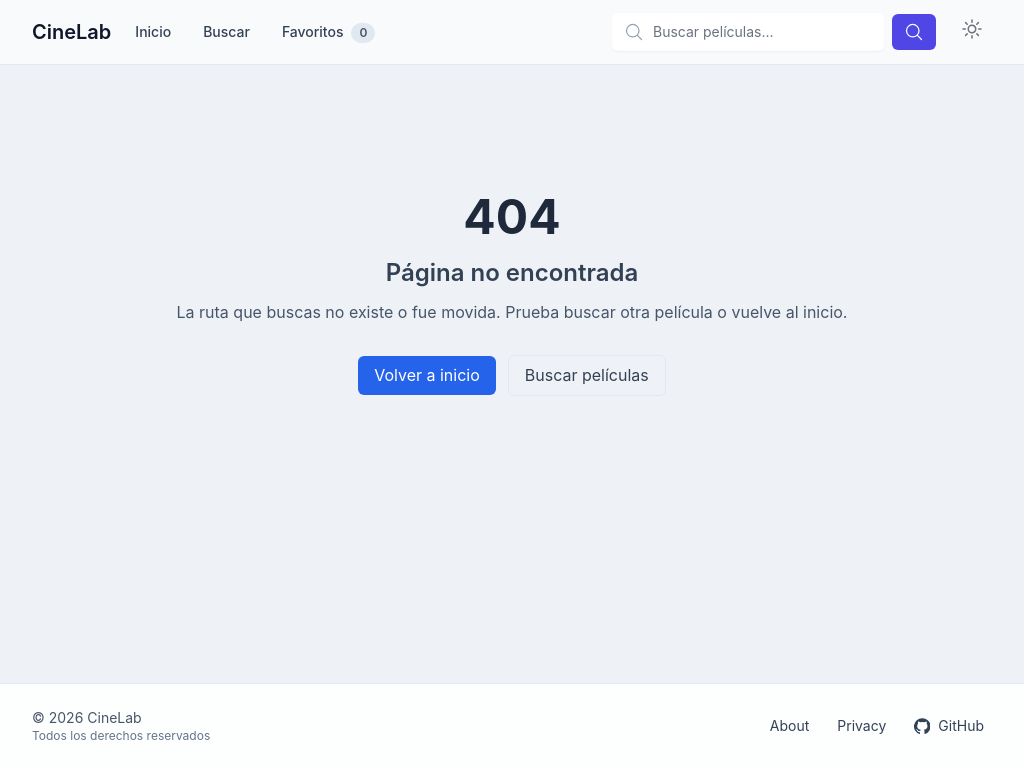
it: navega a Home al clickear el logo sin recargar la página
Expected: the heading "404" is shown, x1=463 y1=187 x2=561 y2=246
Click the link with aria-label "cinelab — inicio" at (72, 32), box x1=32 y1=18 x2=111 y2=46
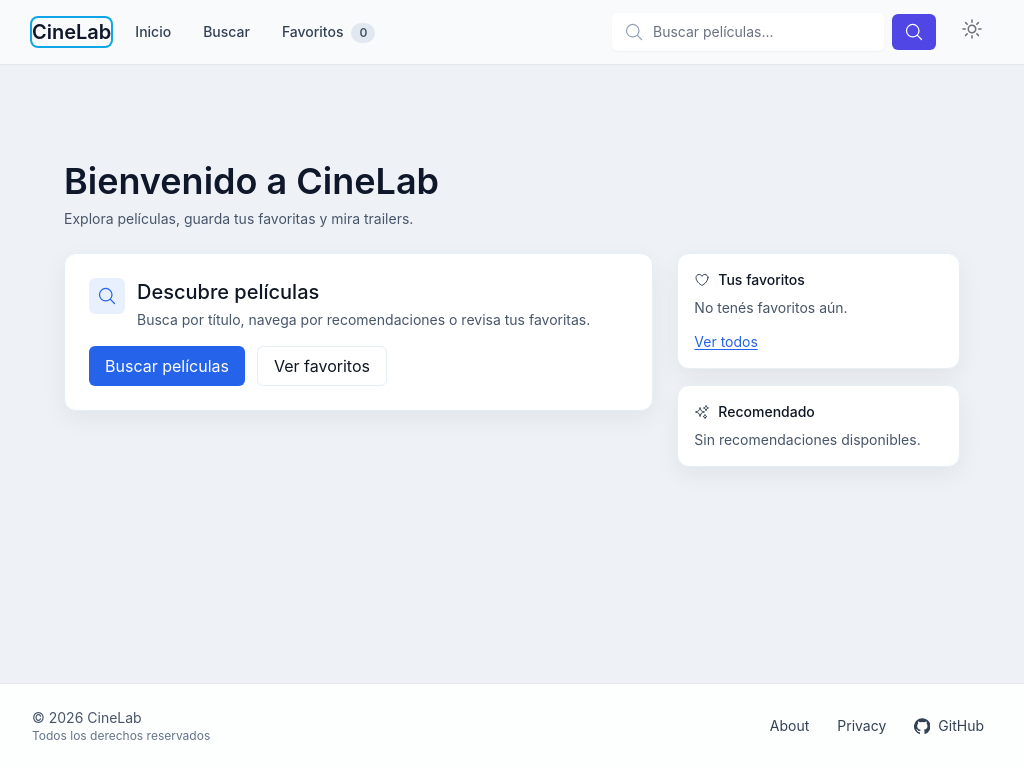
Now the heading "Bienvenido a CineLab" is shown, box x1=64 y1=159 x2=439 y2=203
